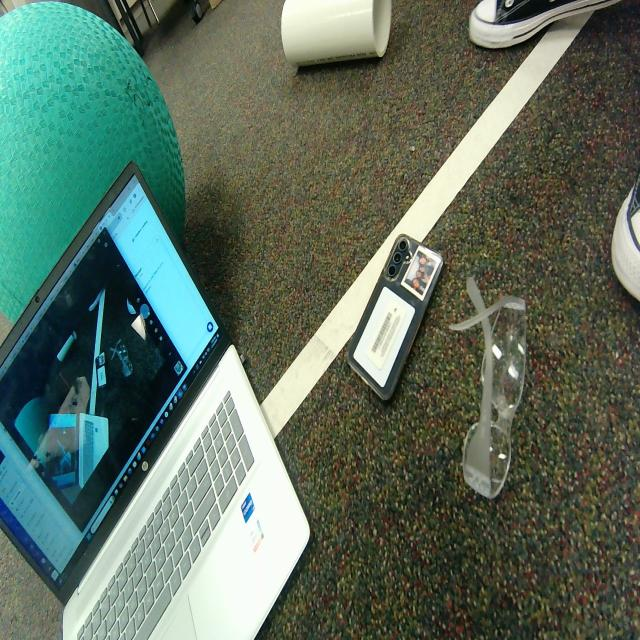algae: (0, 2, 190, 321)
coral: (281, 0, 391, 73)
